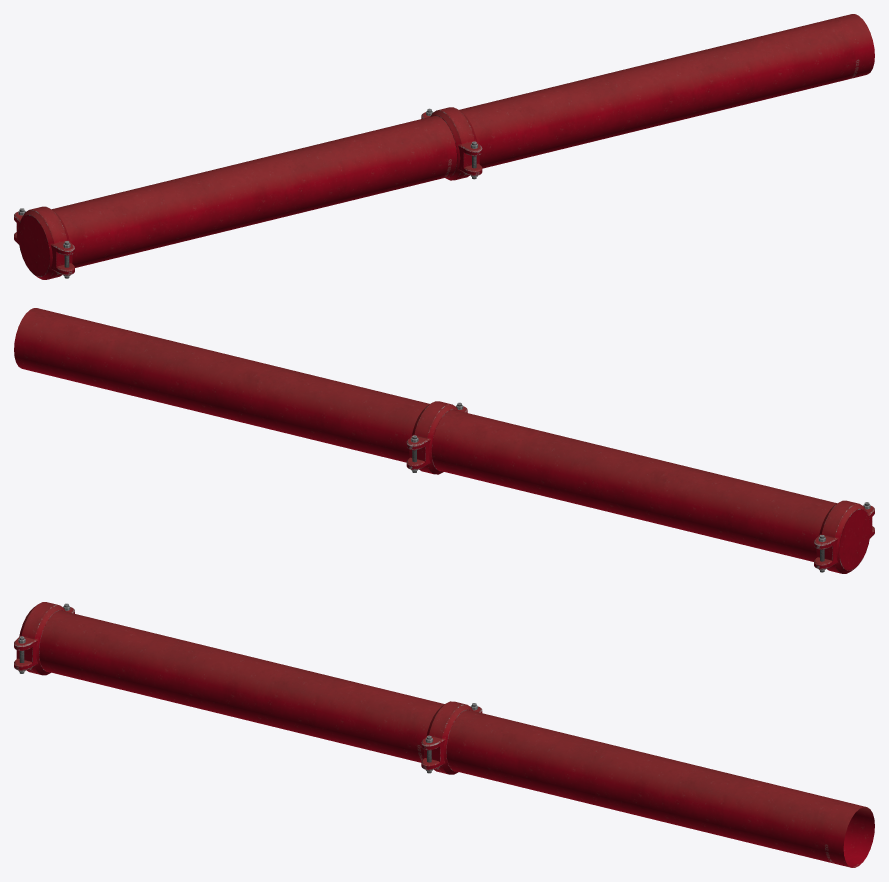
The model's file is SM_Pipe_Module_01b.fbx.
The picture shows the model from 3 angles, top to bottom: view 1: azimuth 30°, elevation 25°; view 2: azimuth 150°, elevation 25°; view 3: azimuth 330°, elevation 25°; orthographic projection.
Visible parts, largest first — view 1: SM_Pipe_Module_01b; view 2: SM_Pipe_Module_01b; view 3: SM_Pipe_Module_01b.
Part boxes in pixels (x1,y1,x2,y2): SM_Pipe_Module_01b: (14, 14, 874, 279); SM_Pipe_Module_01b: (14, 308, 874, 573); SM_Pipe_Module_01b: (14, 602, 874, 867).
Bounding box in the file's own units: 243 × 27.31 × 18.43.
1 material, 1 textured.
